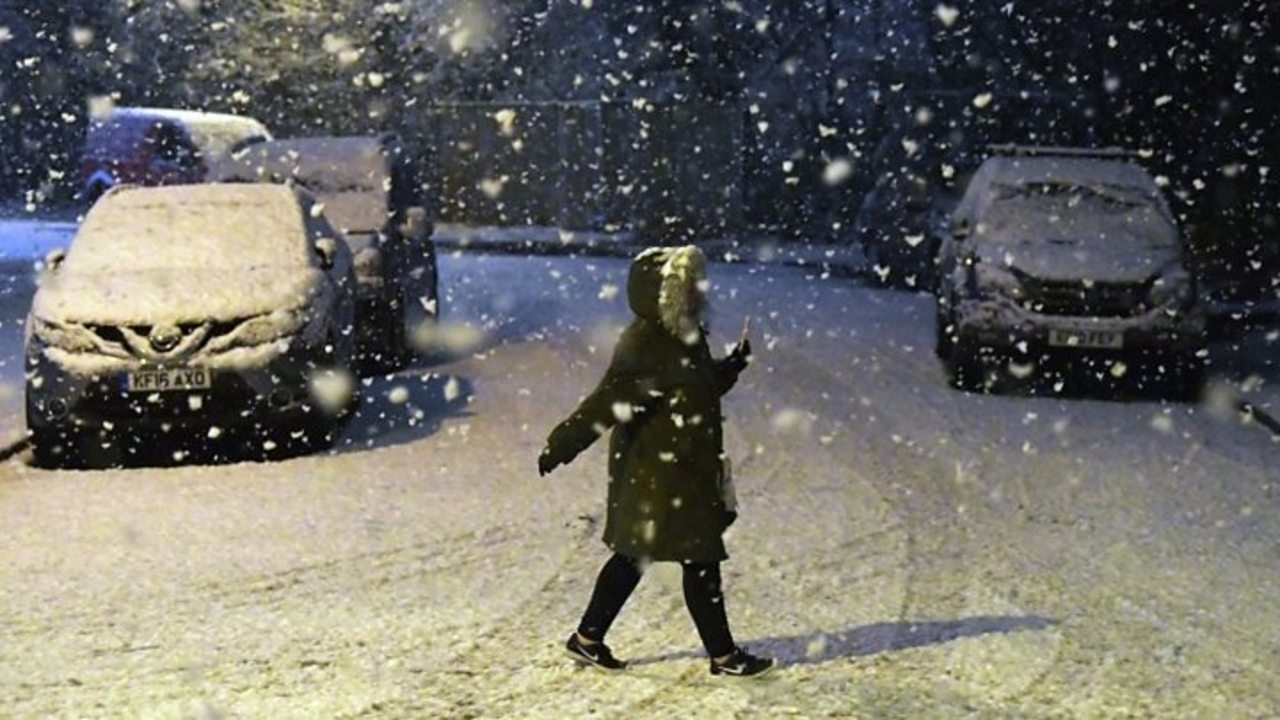car: (34, 185, 351, 449), (932, 146, 1210, 397), (248, 134, 438, 346), (80, 104, 268, 195), (853, 154, 953, 286)
person: (531, 254, 772, 681)
